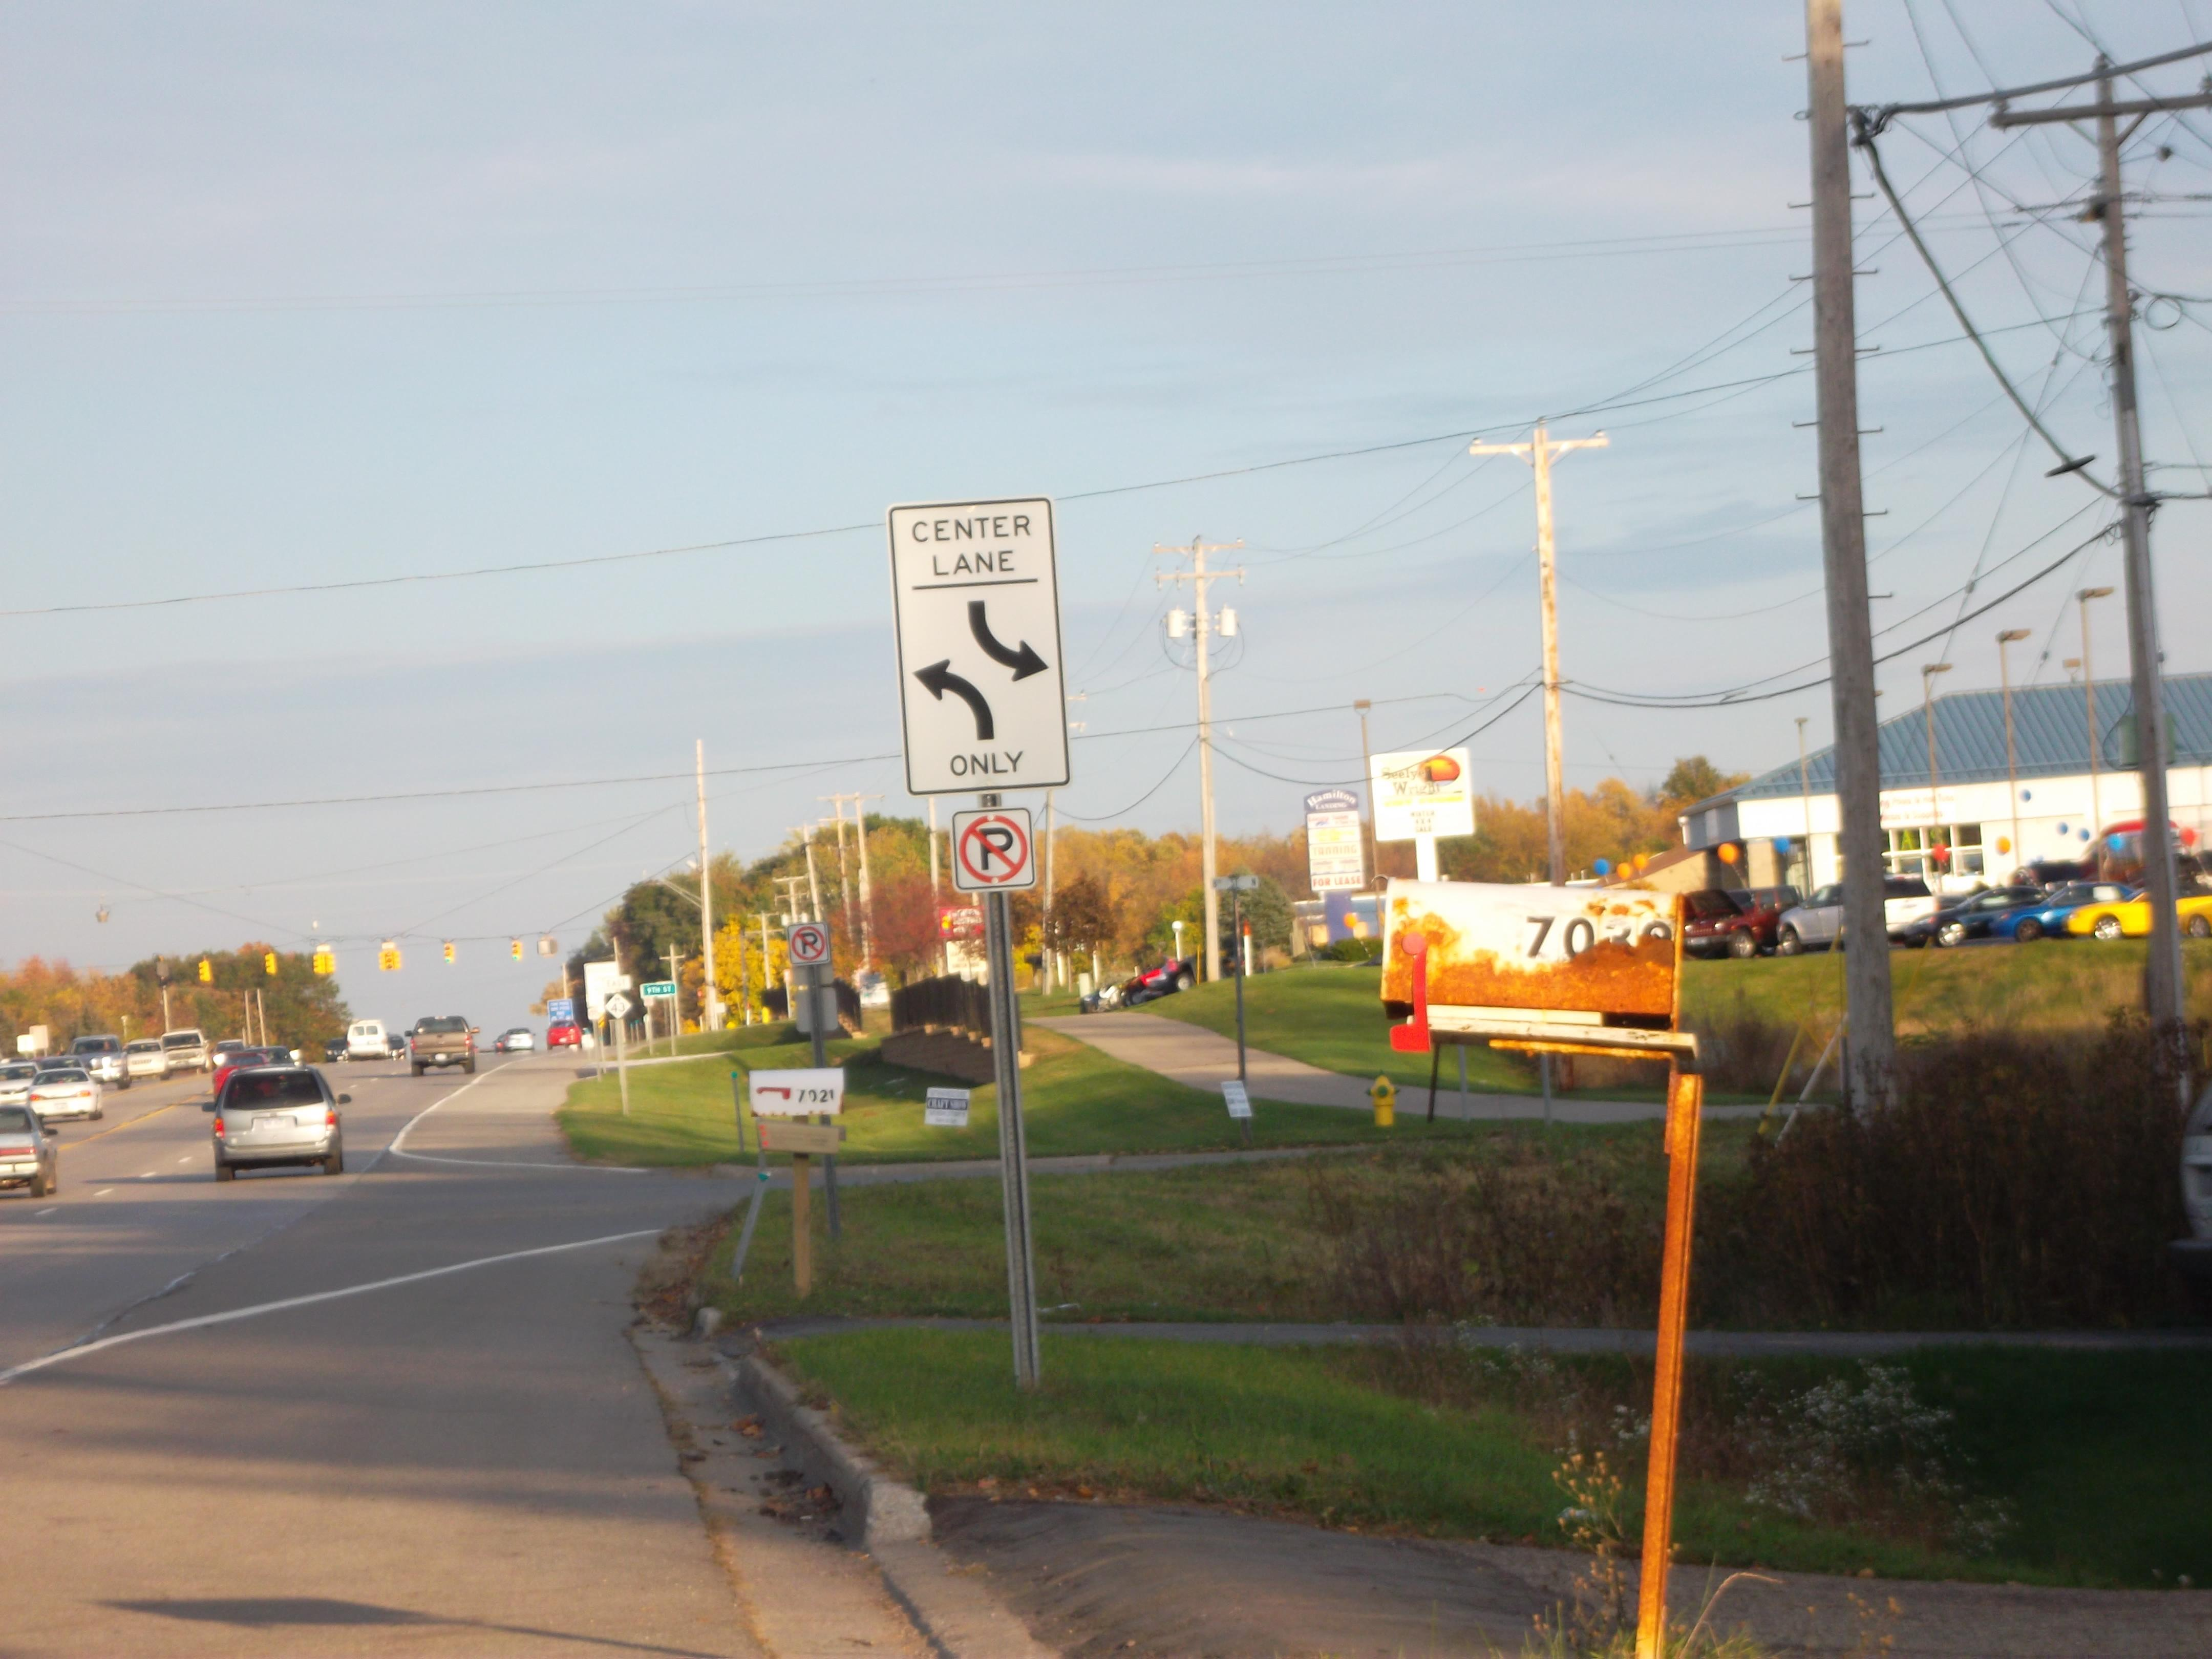regulatory: (881, 490, 1076, 802), (949, 807, 1035, 894), (786, 920, 836, 967)
